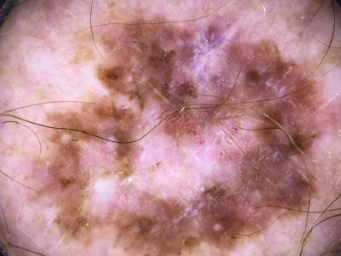nevus: (44, 17, 323, 256)
